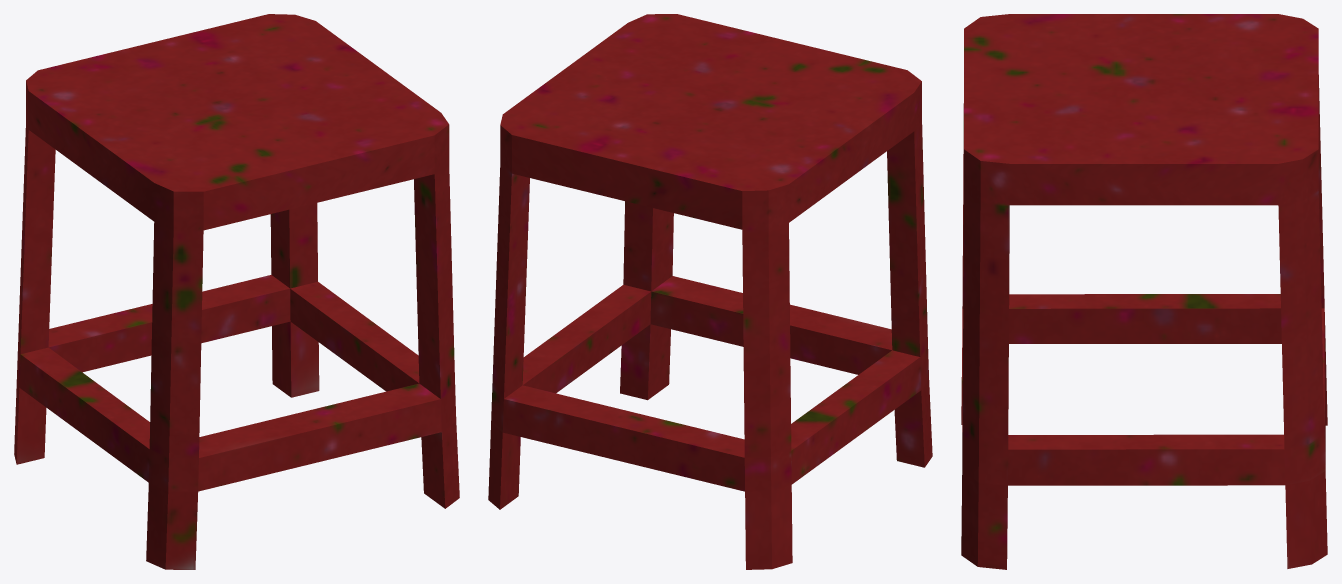
Rendered from Plastic_Stool_2.fbx.
The picture shows the model from 3 angles, left to right: view 1: azimuth 30°, elevation 25°; view 2: azimuth 150°, elevation 25°; view 3: azimuth 270°, elevation 25°; orthographic projection. The views are drawn at different scales.
Visible parts, largest first — view 1: Plastic Stool_2; view 2: Plastic Stool_2; view 3: Plastic Stool_2.
Part boxes in pixels (x1,y1,x2,y2): Plastic Stool_2: (14, 14, 459, 569); Plastic Stool_2: (488, 14, 932, 569); Plastic Stool_2: (961, 14, 1327, 569).
Size of the model in its own units: 56.11 by 65.75 by 54.42.
